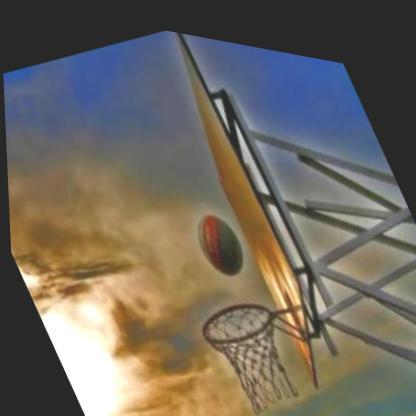basketball: (182, 188, 255, 283)
